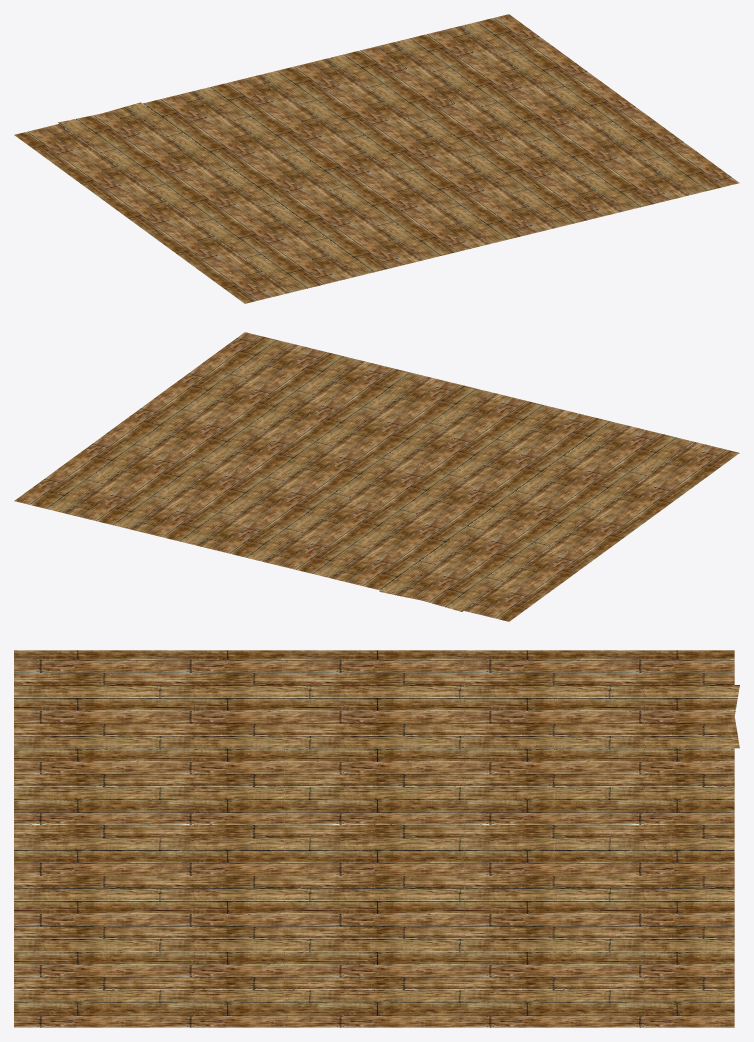
File: LAKETOWN_WAREHOUSE1_PS_WH1_MAINFLOOR93938.obj
The picture shows the model from 3 angles, top to bottom: view 1: azimuth 30°, elevation 25°; view 2: azimuth 150°, elevation 25°; view 3: azimuth 270°, elevation 25°; orthographic projection. The views are drawn at different scales.
Visible parts, largest first — view 1: _MainFloor93938; view 2: _MainFloor93938; view 3: _MainFloor93938.
Boxes of the visible parts, <box> form: _MainFloor93938: <box>14,14,739,303</box>; _MainFloor93938: <box>14,332,739,621</box>; _MainFloor93938: <box>14,650,739,1027</box>.
Size of the model in its own units: 1951 by 0.000488 by 1587.
